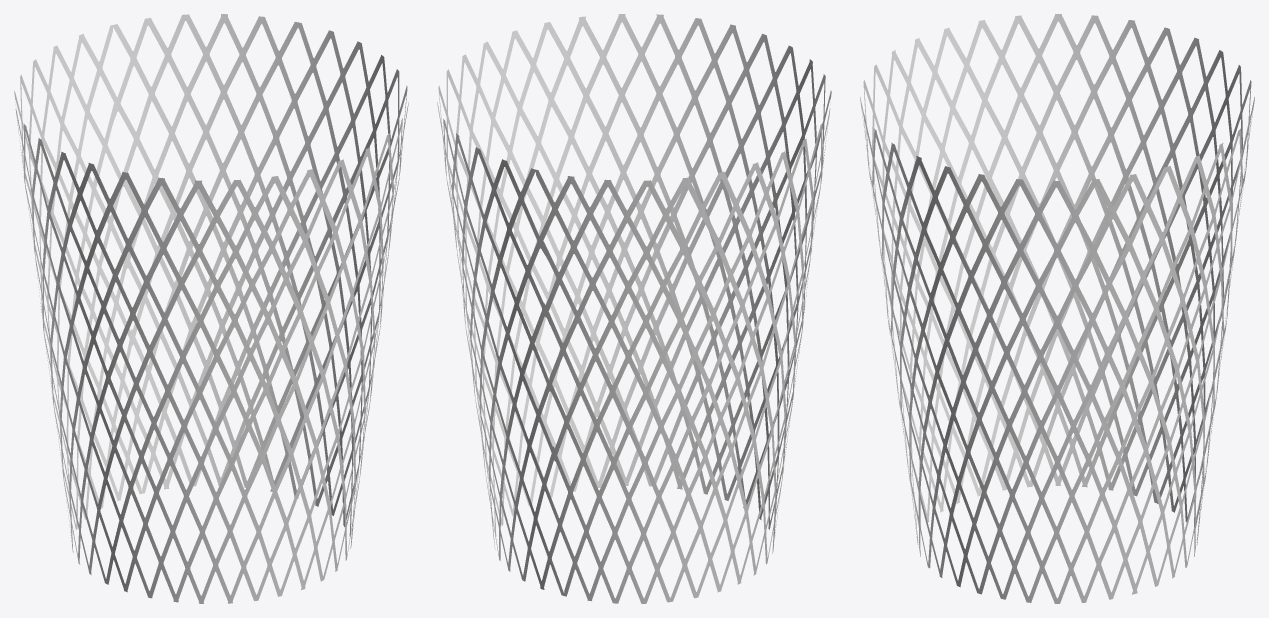
File: Net.fbx
The picture shows the model from 3 angles, left to right: view 1: azimuth 30°, elevation 25°; view 2: azimuth 150°, elevation 25°; view 3: azimuth 270°, elevation 25°; orthographic projection.
Parts seen in each view (by area): view 1: node_26d3b9a2_7b77_4fce_9d35_cdc1631206ef_mesh0; view 2: node_26d3b9a2_7b77_4fce_9d35_cdc1631206ef_mesh0; view 3: node_26d3b9a2_7b77_4fce_9d35_cdc1631206ef_mesh0.
Boxes of the visible parts, left/top/right/bottom form: node_26d3b9a2_7b77_4fce_9d35_cdc1631206ef_mesh0: left=14, top=14, right=408, bottom=603; node_26d3b9a2_7b77_4fce_9d35_cdc1631206ef_mesh0: left=437, top=14, right=831, bottom=603; node_26d3b9a2_7b77_4fce_9d35_cdc1631206ef_mesh0: left=860, top=14, right=1254, bottom=603.
Size of the model in its own units: 32 by 40 by 32.
1 material, 1 textured.
